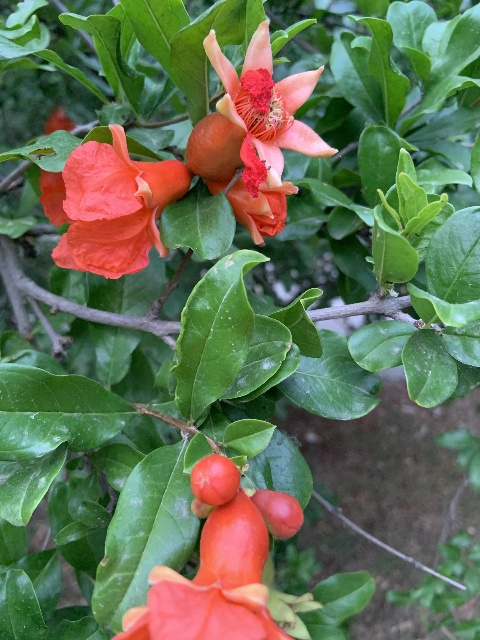bud: (250, 488, 303, 540), (190, 453, 239, 509), (190, 498, 212, 519)
flower: (103, 494, 315, 640), (185, 19, 339, 189), (39, 122, 190, 279), (205, 177, 298, 247)
